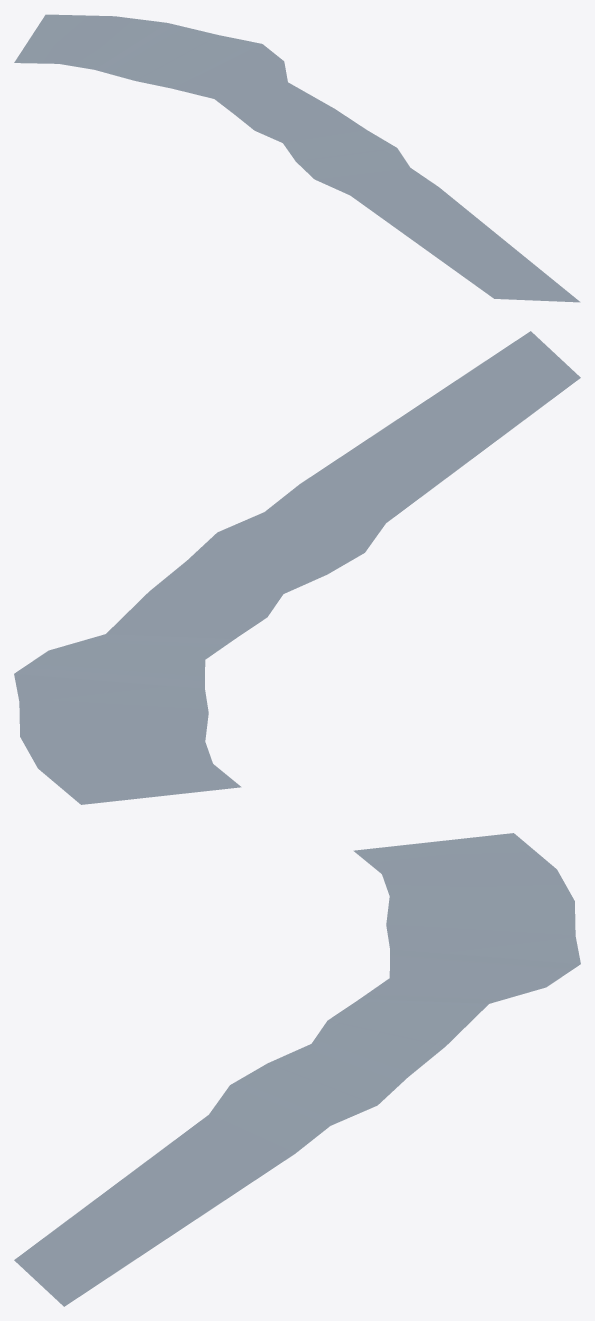
The model's file is waves.fbx.
3 views of the same model, one above another, from view 1: azimuth 30°, elevation 25°; view 2: azimuth 150°, elevation 25°; view 3: azimuth 330°, elevation 25° (orthographic). The views are drawn at different scales.
Parts seen in each view (by area): view 1: Waves_Mesh; view 2: Waves_Mesh; view 3: Waves_Mesh.
Boxes of the visible parts, bbox=[...] form: Waves_Mesh: bbox=[14, 14, 580, 302]; Waves_Mesh: bbox=[14, 331, 580, 804]; Waves_Mesh: bbox=[14, 833, 580, 1306].
Size of the model in its own units: 36.04 by 3.81e-06 by 130.
